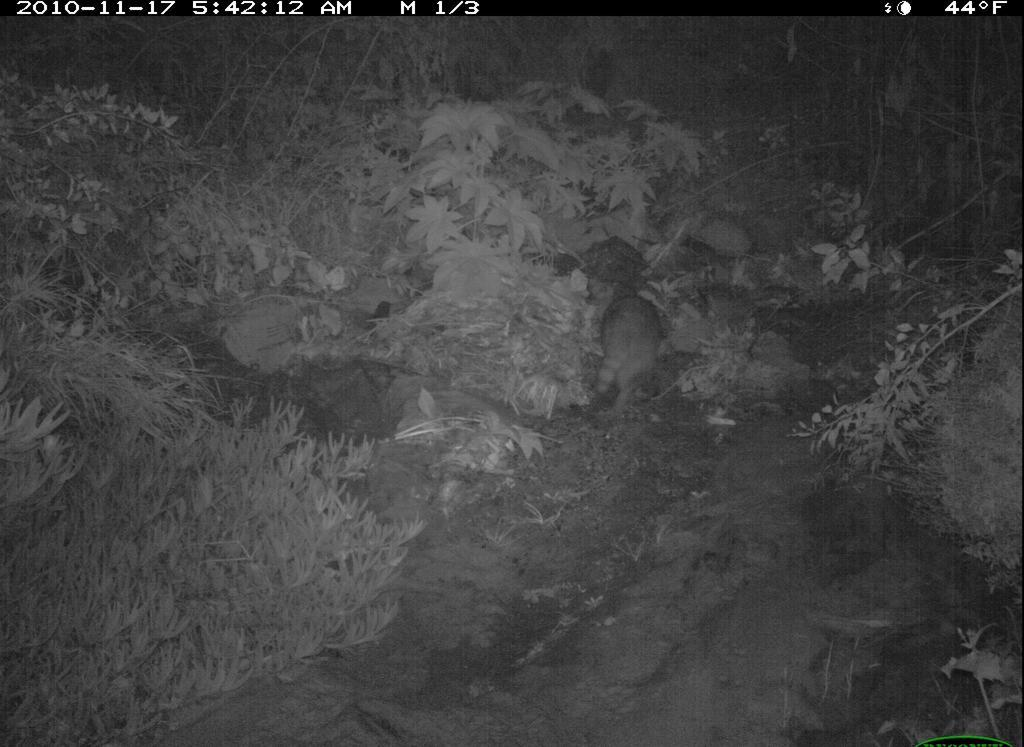raccoon: (577, 280, 676, 431)
